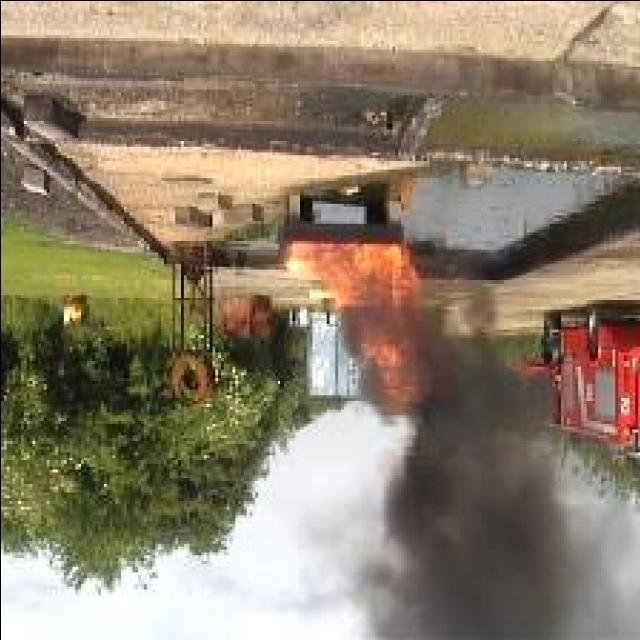Fire: (284, 238, 447, 411)
